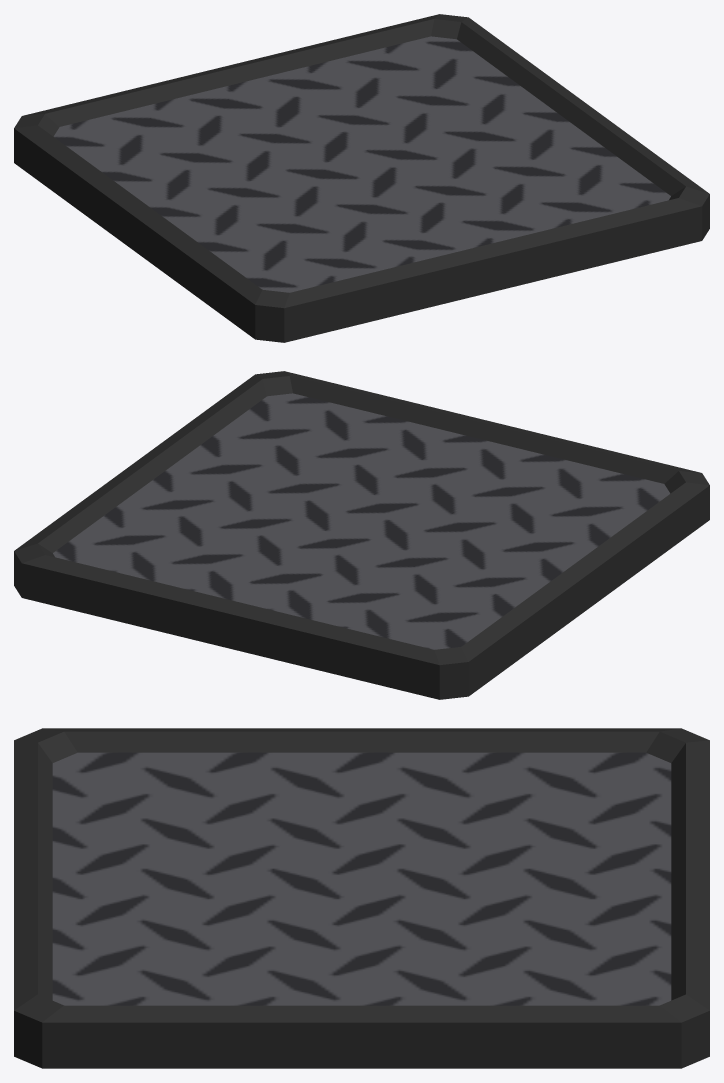
File: SM_Prop_Greeble_Panel_03.fbx
The picture shows the model from 3 angles, top to bottom: view 1: azimuth 30°, elevation 25°; view 2: azimuth 150°, elevation 25°; view 3: azimuth 270°, elevation 25°; orthographic projection. The views are drawn at different scales.
Parts seen in each view (by area): view 1: SM_Prop_Greeble_Panel_03; view 2: SM_Prop_Greeble_Panel_03; view 3: SM_Prop_Greeble_Panel_03.
Part boxes in pixels (<box>): SM_Prop_Greeble_Panel_03: <box>14,14,709,342</box>; SM_Prop_Greeble_Panel_03: <box>14,371,709,699</box>; SM_Prop_Greeble_Panel_03: <box>14,728,709,1068</box>.
Bounding box in the file's own units: 105 × 10 × 105.
Materials: 1 (1 with a texture image).
